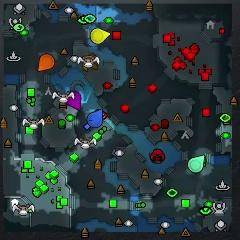p1: (87, 108, 103, 129)
p2: (188, 155, 204, 172)
p3: (66, 91, 82, 110)
p4: (90, 28, 111, 44)
p5: (39, 54, 55, 70)
